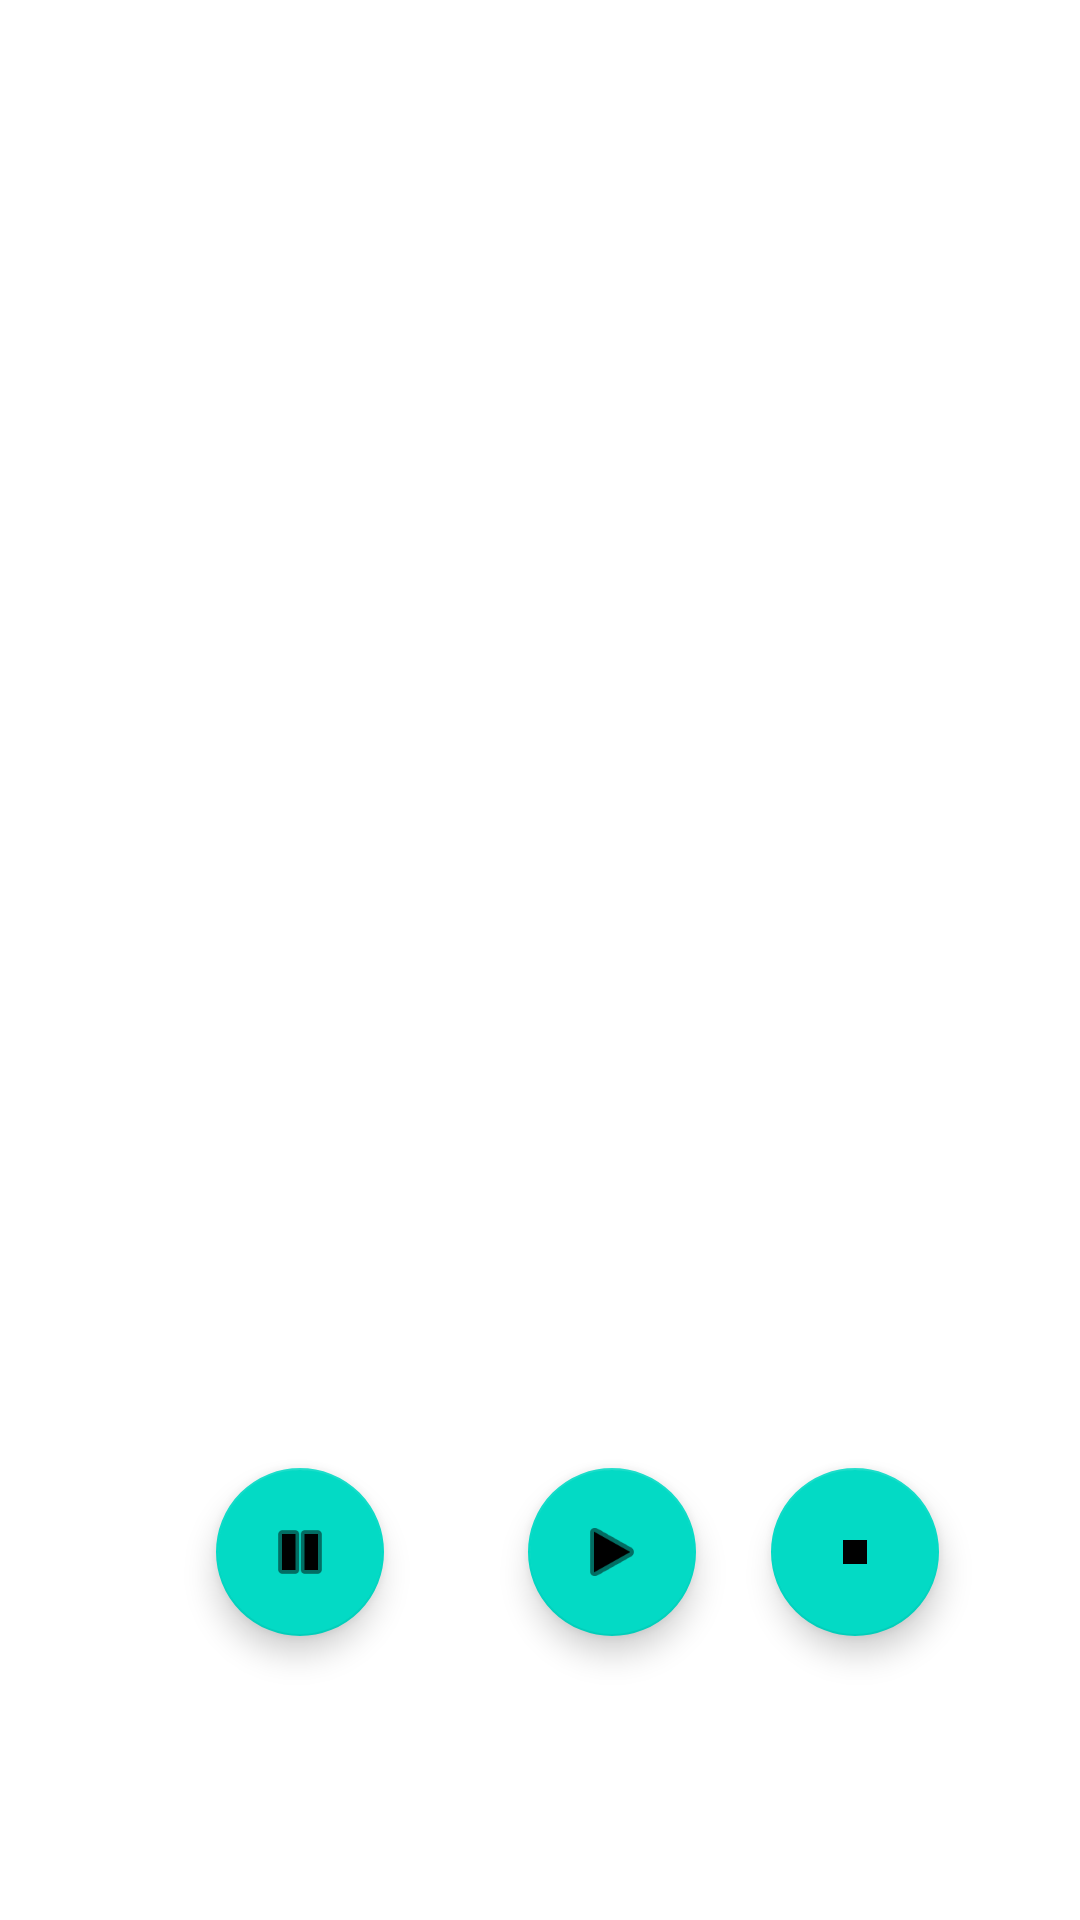

Screen size 1080px x 1920px. Icon name, then its center in pixels as (x,y):
pause: (300,1552)
play: (612,1552)
